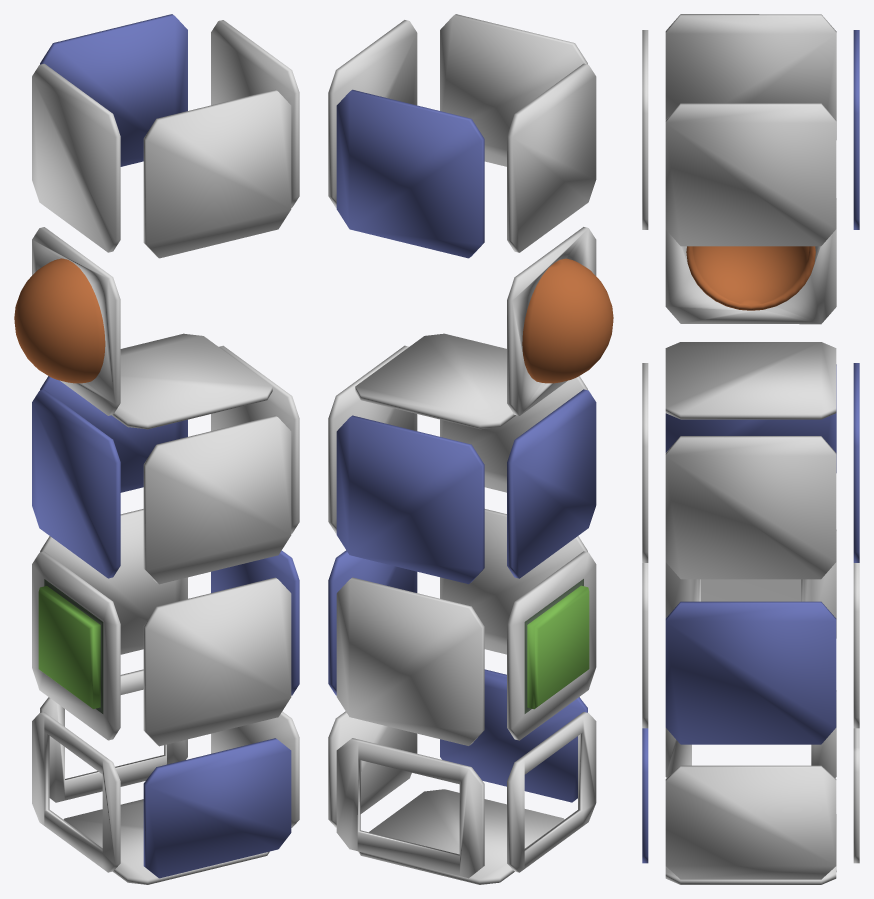
The model's file is planes_LP.fbx.
3 views of the same model, side by side, from view 1: azimuth 30°, elevation 25°; view 2: azimuth 150°, elevation 25°; view 3: azimuth 270°, elevation 25° (orthographic). The views are drawn at different scales.
Parts seen in each view (by area): view 1: planes; view 2: planes; view 3: planes.
Boxes of the visible parts, box(x1,y1,x2,y2) form: planes: box(14, 14, 299, 884); planes: box(328, 14, 613, 884); planes: box(642, 14, 859, 884).
Size of the model in its own units: 184 by 579 by 144.
